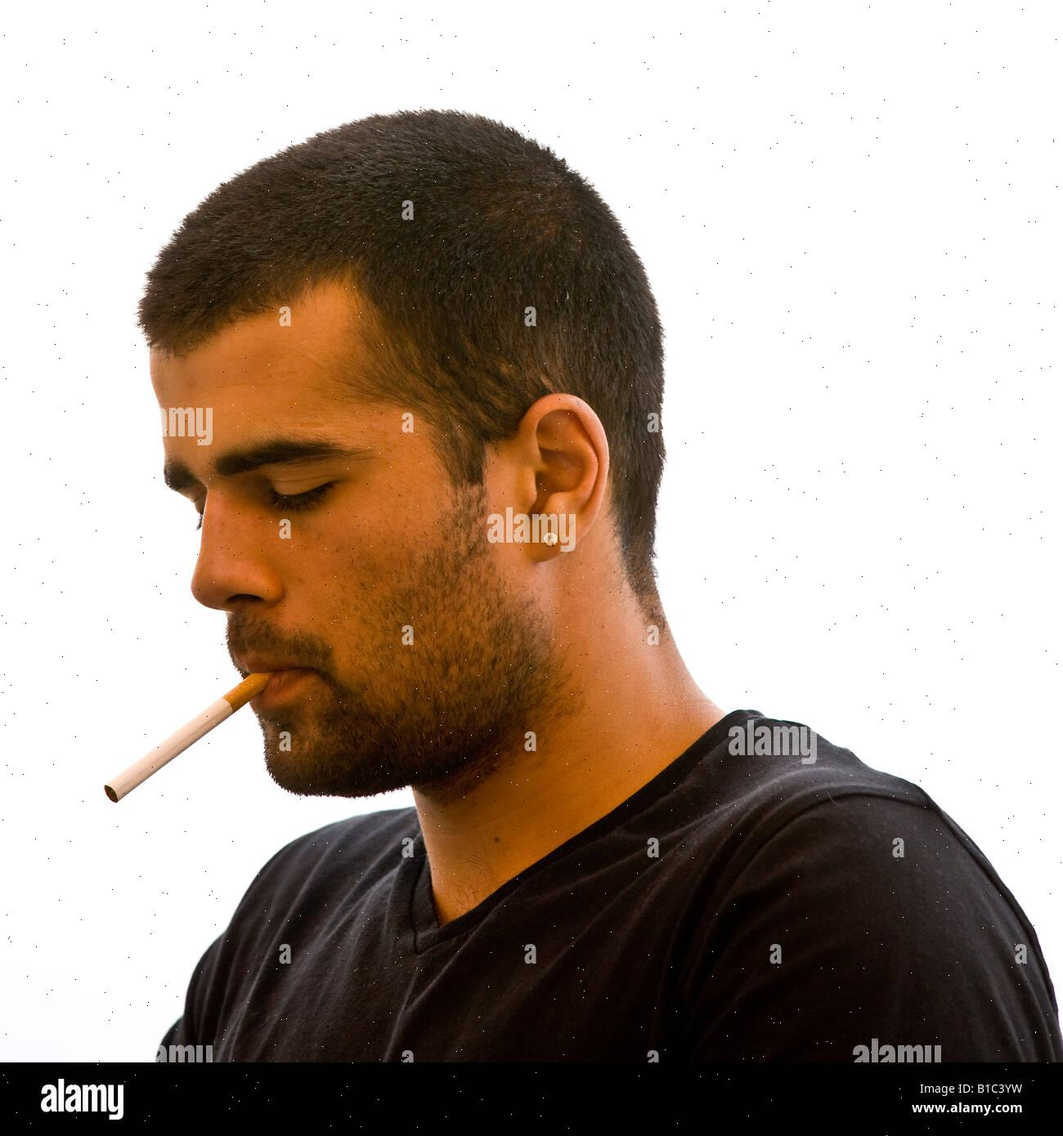cigarette: (105, 673, 272, 802)
